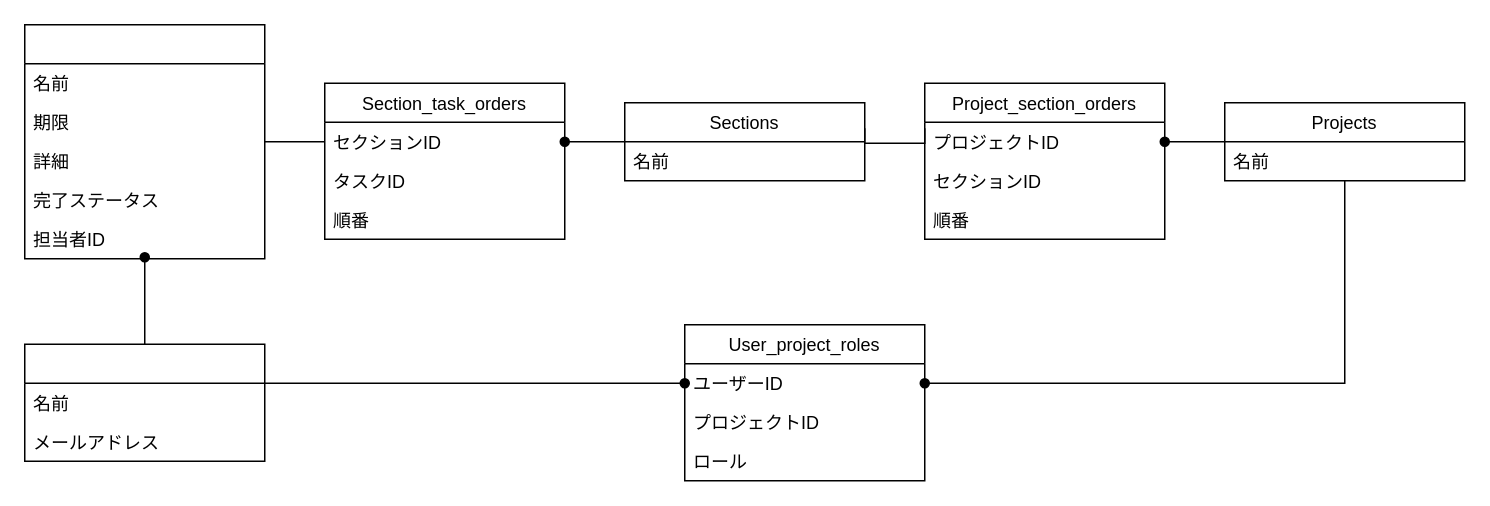
This 1490x506 diagram has some shape labels left out. Here are the shapes that lost their labels. From the top down, the box of each, then its label:
(23, 23, 265, 259): Tasks
(23, 343, 265, 461): Users
